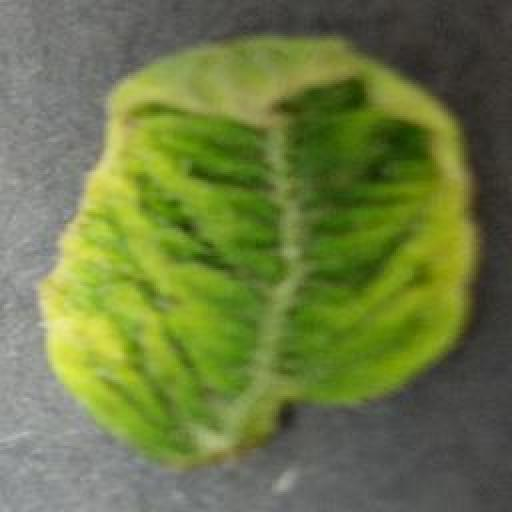disease_tomato: (35, 32, 479, 468)
